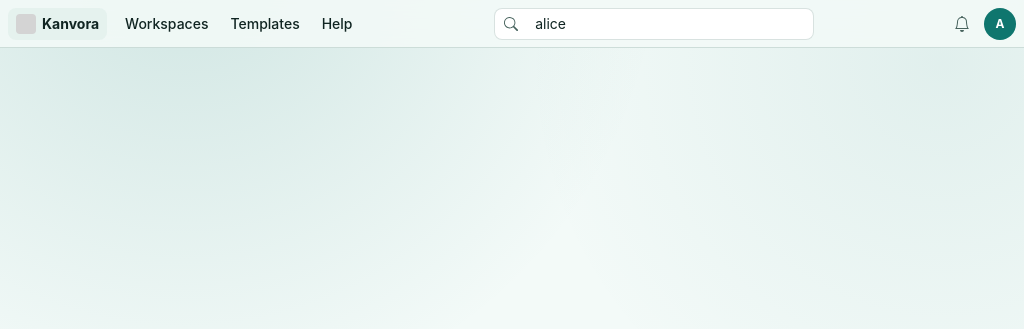
workspace-scoped navbar directory search › clears old results when switching to another authorized workspace
Focus the field with placeholder "Search..." at (654, 24), box [494, 8, 814, 40]
Wait 250 ms
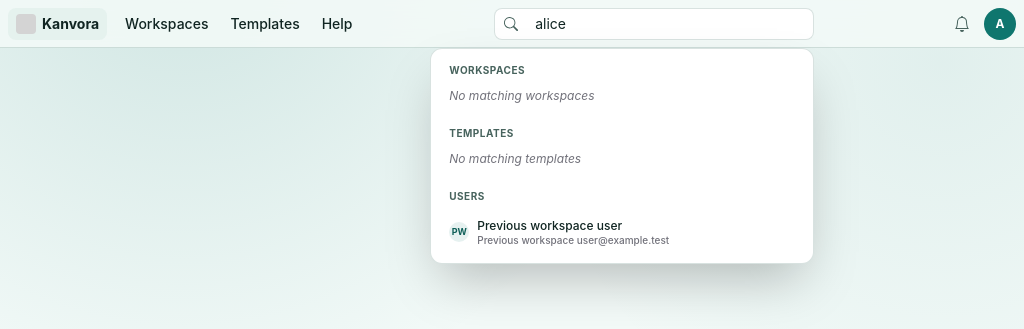
Now the text "Previous workspace user" is shown, box [477, 218, 622, 232]
